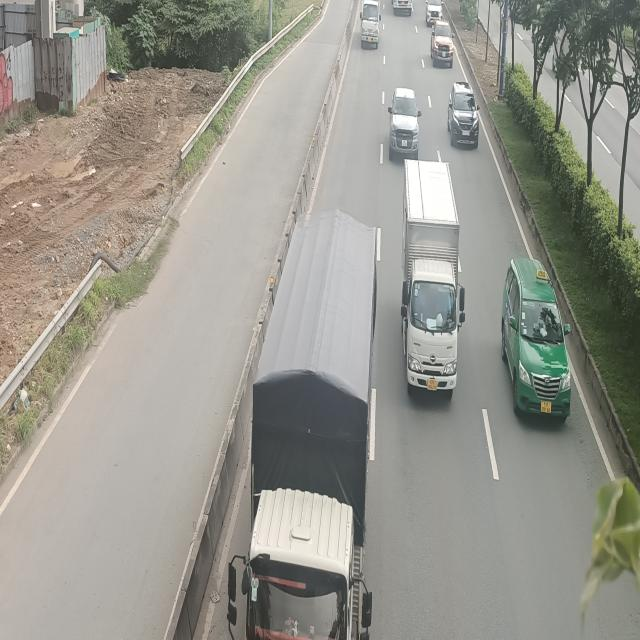car: (502, 258, 573, 426), (390, 88, 422, 162), (448, 81, 480, 148), (432, 20, 456, 68)
truck: (228, 206, 376, 640), (401, 161, 466, 397), (359, 0, 380, 48)
